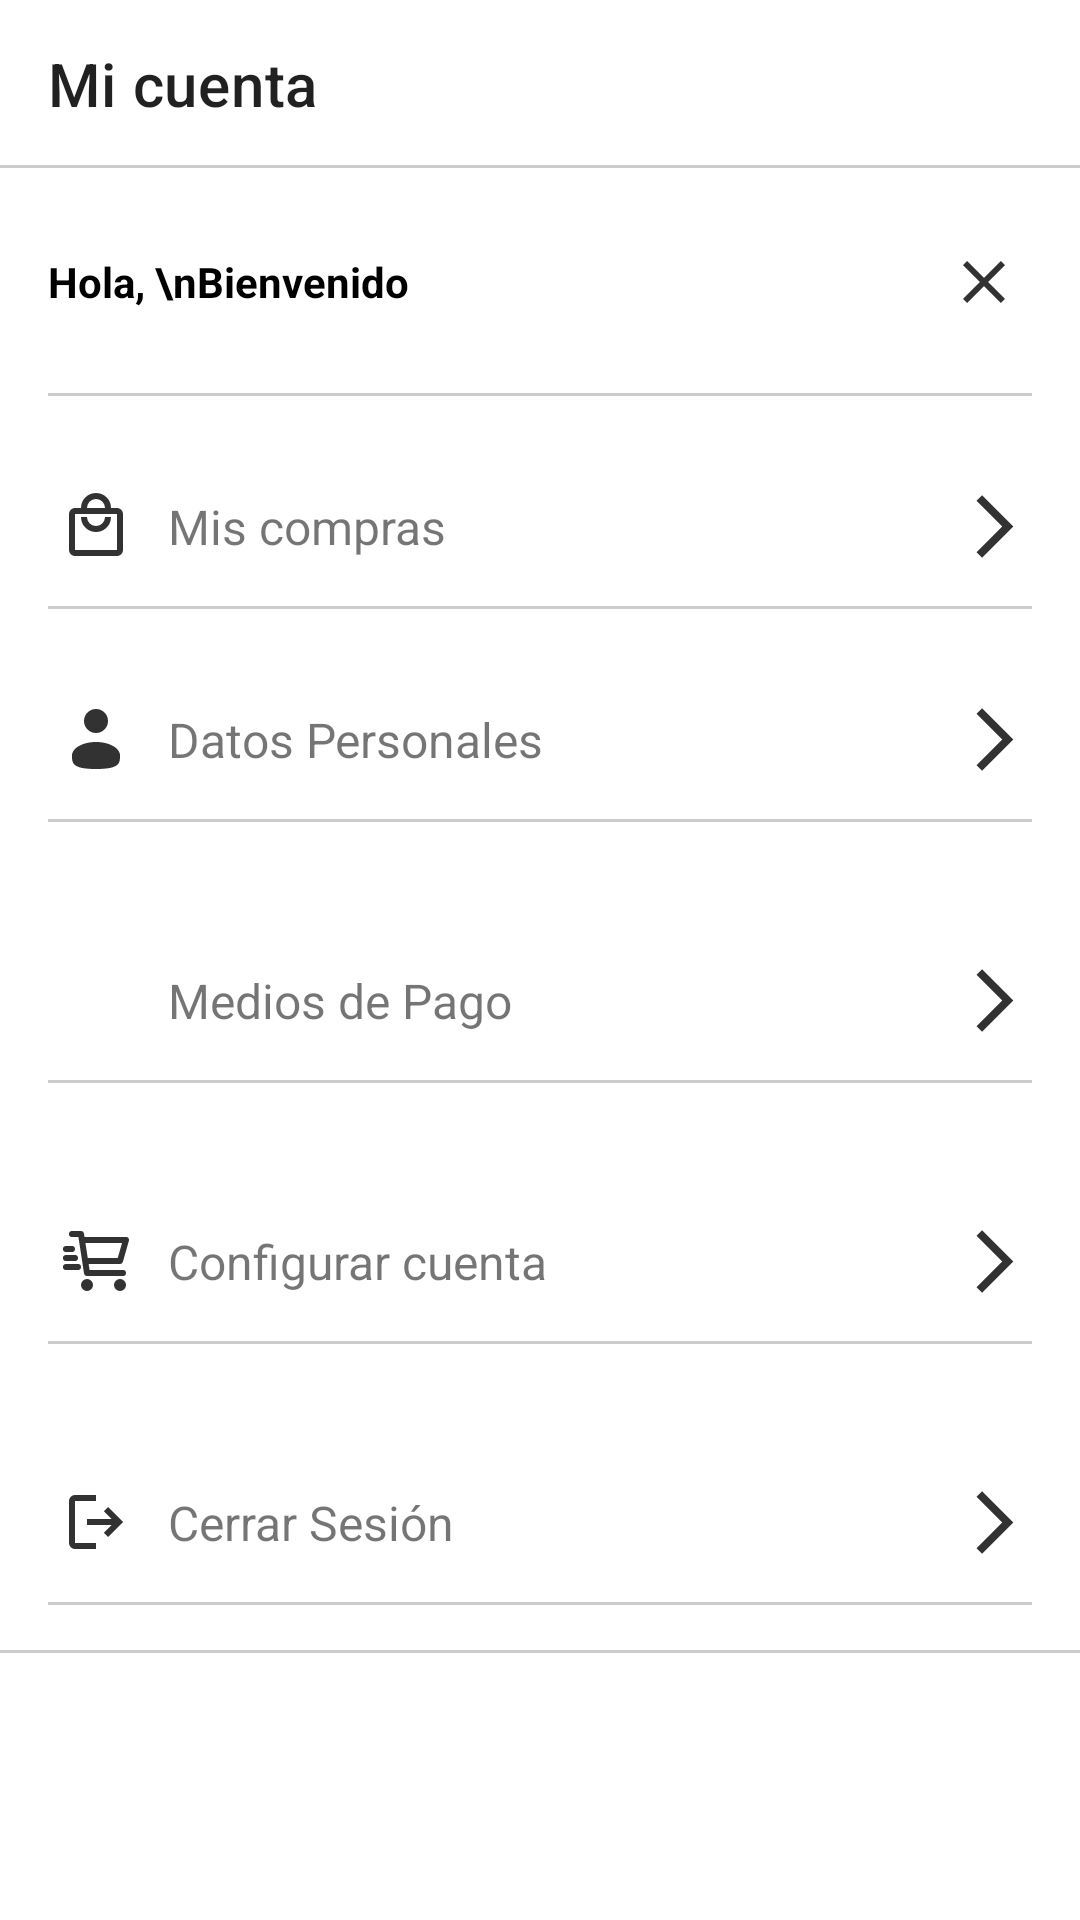

Point at icon controls on the screen. Image size 1080*1920, points as (x,y).
arrow right: (994,526), (994,739), (994,1000), (994,1261), (994,1522)
bag: (96,524)
cart: (96,1261)
close: (984,282)
profile: (96,739)
